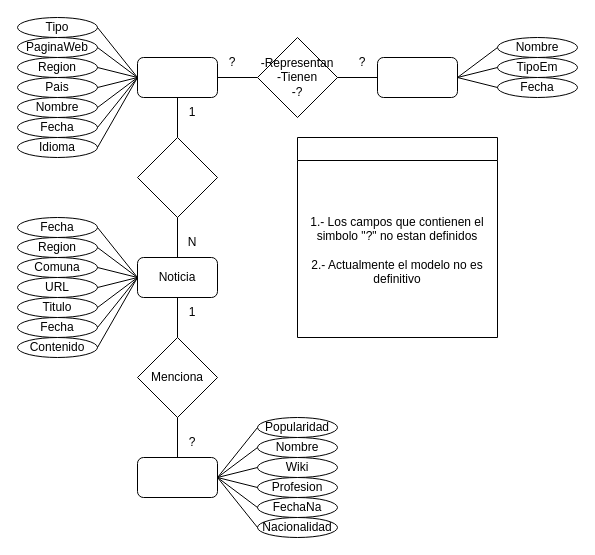
This 595x555 diagram has some shape labels left out. Here are the shapes that lost their labels. From the top down, the box of each, then its label:
(136, 56, 218, 98): Medio
(376, 56, 458, 98): Dueños
(136, 136, 218, 218): -Muestra -Almacena -?
(296, 136, 498, 338): Comentarios:
(136, 456, 218, 498): Persona
